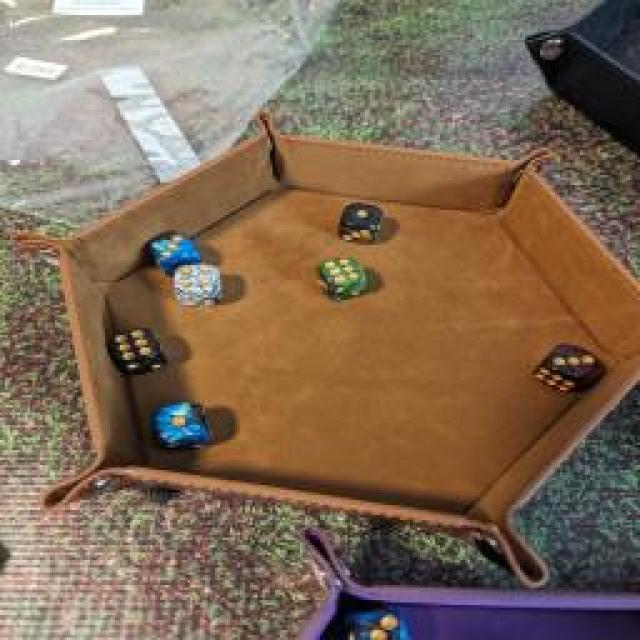dice_1: (151, 398, 219, 450), (331, 197, 389, 245)
dice_3: (529, 339, 601, 391), (330, 600, 412, 640), (146, 228, 202, 274)
dice_4: (166, 262, 226, 306)
dice_6: (104, 326, 171, 379), (315, 254, 370, 301)
